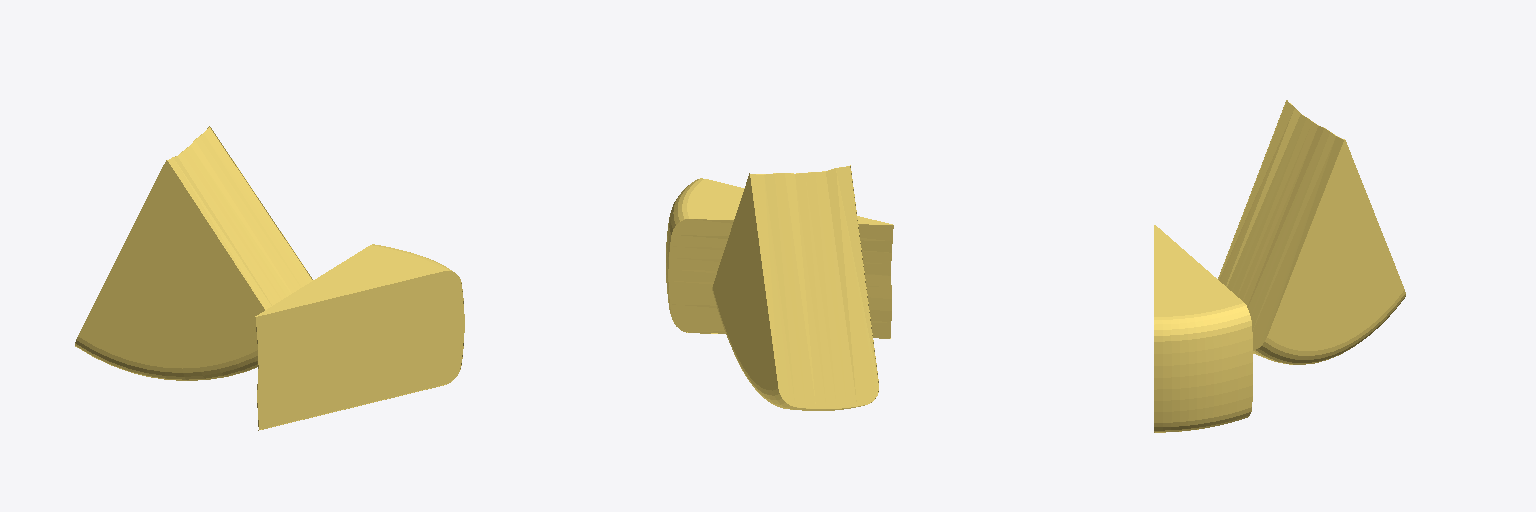
Rendered from cheese.obj.
3 renders of one model, left to right at view 1: azimuth 30°, elevation 25°; view 2: azimuth 150°, elevation 25°; view 3: azimuth 270°, elevation 25°, orthographic.
Visible parts, largest first — view 1: ChamferCyl01; view 2: ChamferCyl01; view 3: ChamferCyl01.
Part boxes in pixels (x1,y1,x2,y2): ChamferCyl01: (75,126,464,430); ChamferCyl01: (666,165,893,410); ChamferCyl01: (1154,100,1405,432).
Size of the model in its own units: 2 by 1.5 by 1.5.